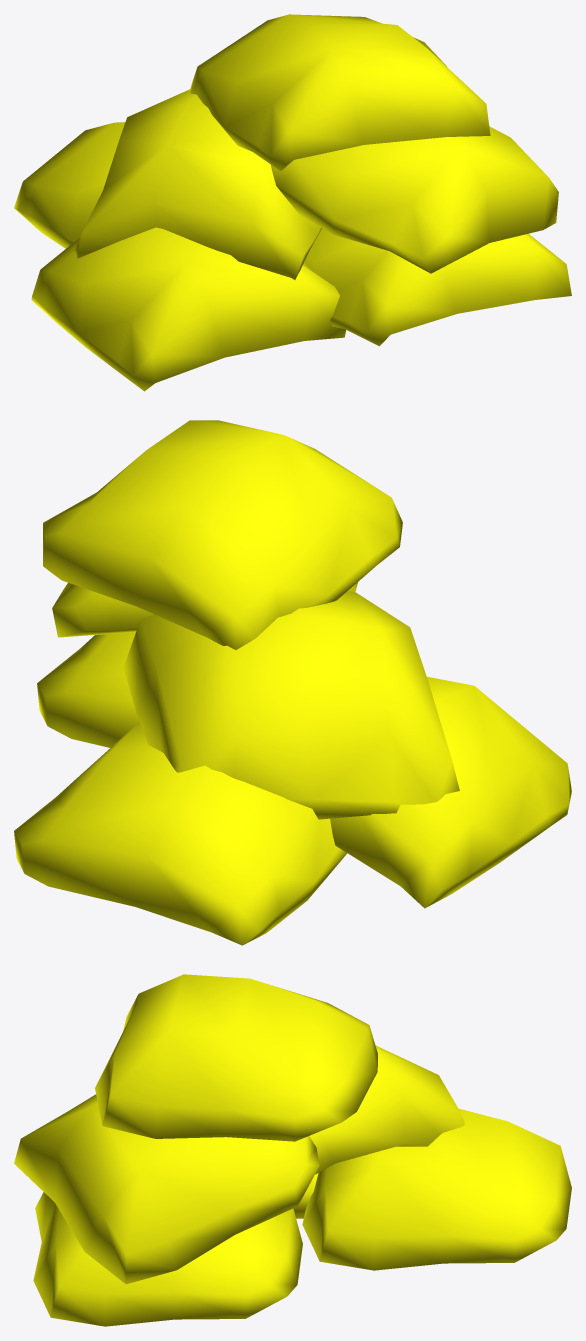
The model's file is thing_bag_00.glb.
The picture shows the model from 3 angles, top to bottom: view 1: azimuth 30°, elevation 25°; view 2: azimuth 150°, elevation 25°; view 3: azimuth 270°, elevation 25°; orthographic projection. The views are drawn at different scales.
Visible parts, largest first — view 1: thing_bag_00; view 2: thing_bag_00; view 3: thing_bag_00.
Part boxes in pixels (x1=…): thing_bag_00: x1=14, y1=14, x2=571, y2=391; thing_bag_00: x1=14, y1=420, x2=571, y2=945; thing_bag_00: x1=14, y1=974, x2=571, y2=1326.
Bounding box in the file's own units: 3.04 × 1.91 × 3.36.
Materials: 1 (1 with a texture image).
